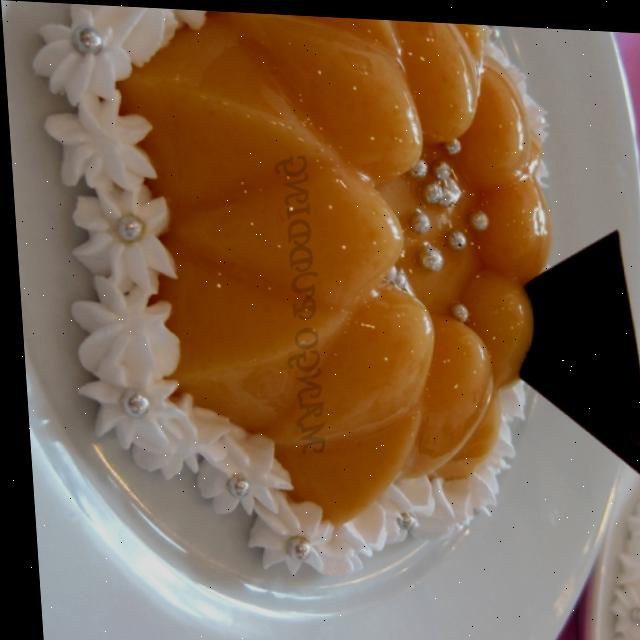蛋糕甜品: (8, 1, 640, 640)
